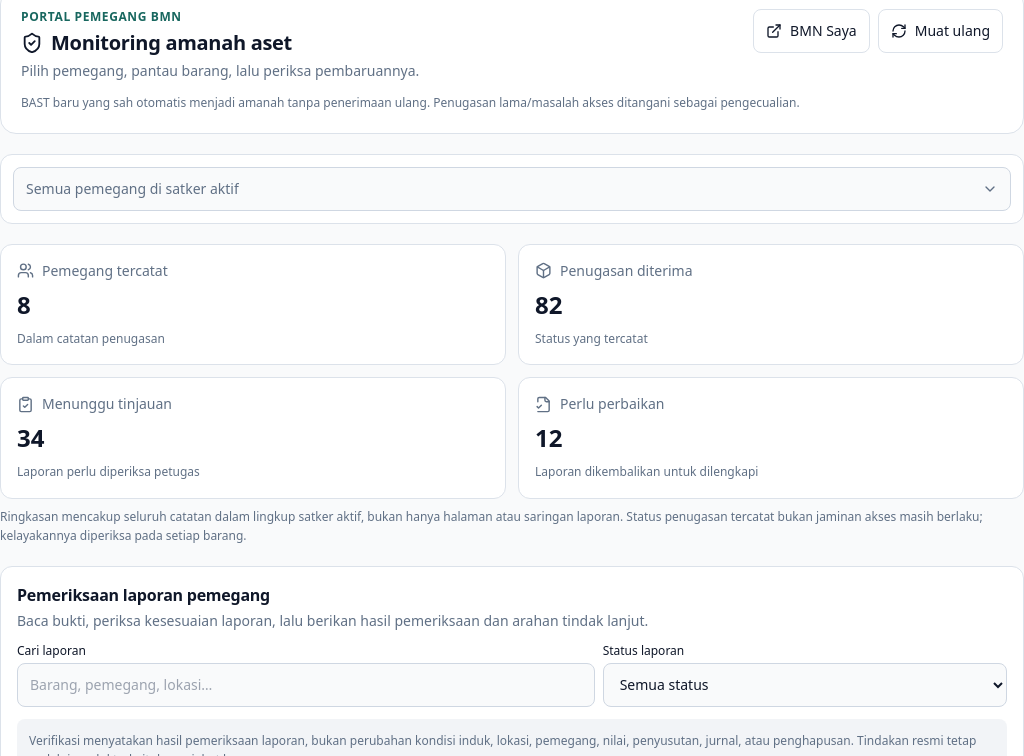
Scenario: kartu amanah membedakan data induk, BAST, laporan dan riwayat dicabut
Click the button with test id "portal-admin-pegawai" at (132, 188), box [13,166,1011,210]
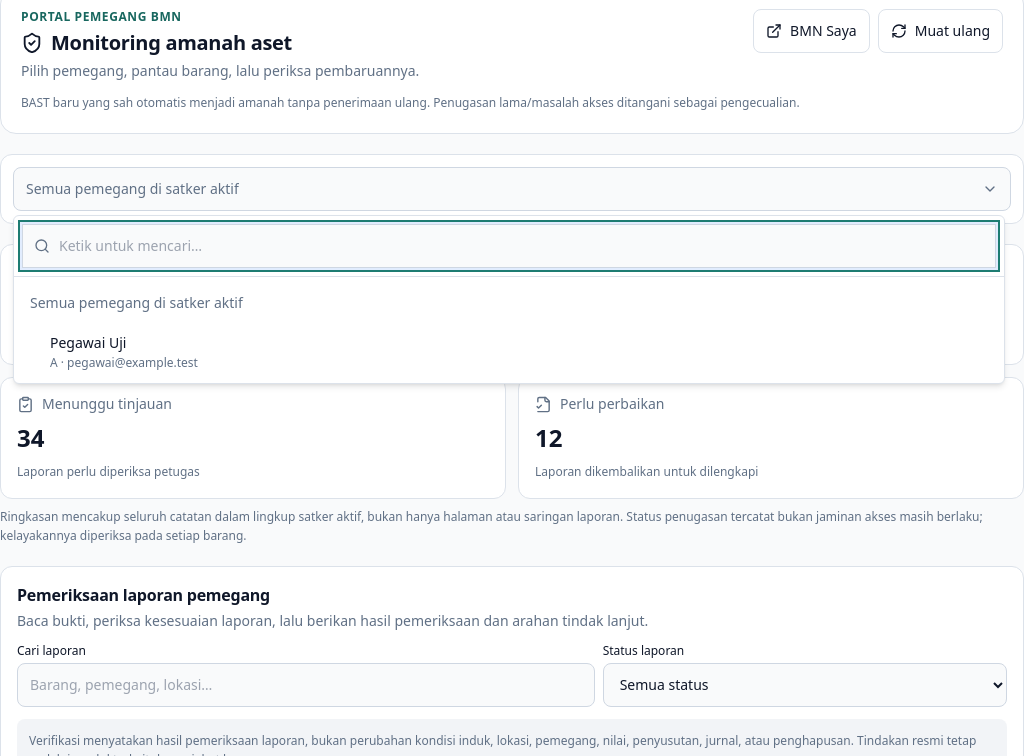
Click the option with test id "portal-admin-pegawai-option-p1" at (88, 342), box [18,325,1000,379]
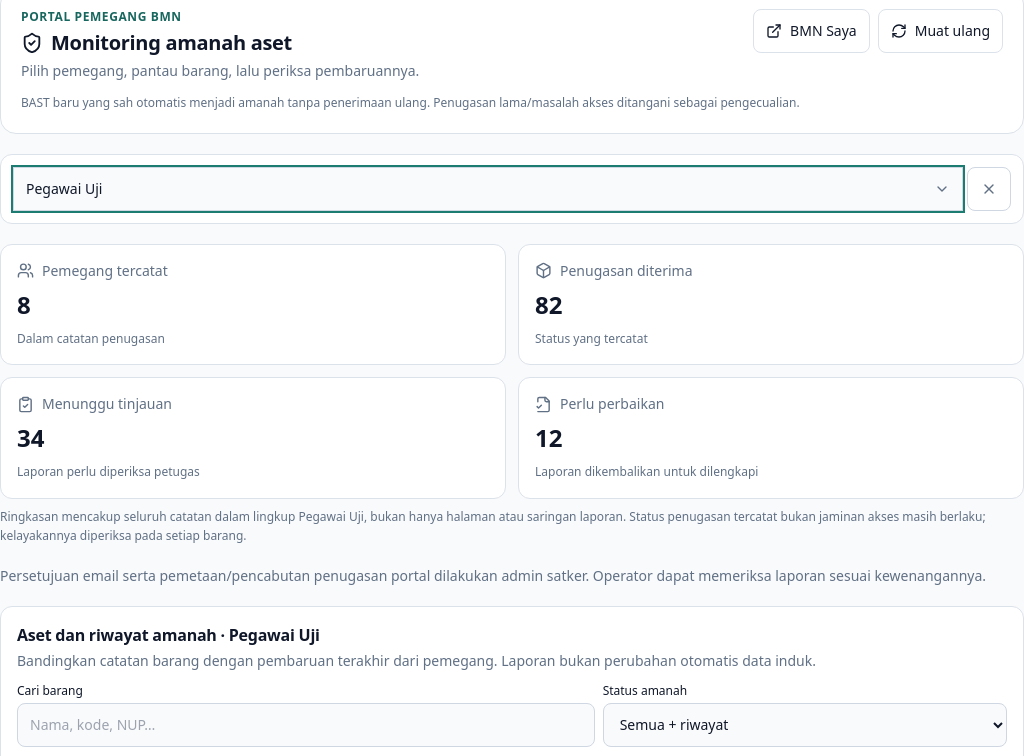
Select "Diterima" in the dropdown with test id "portal-admin-status-amanah" at (805, 724), box [603,702,1007,746]
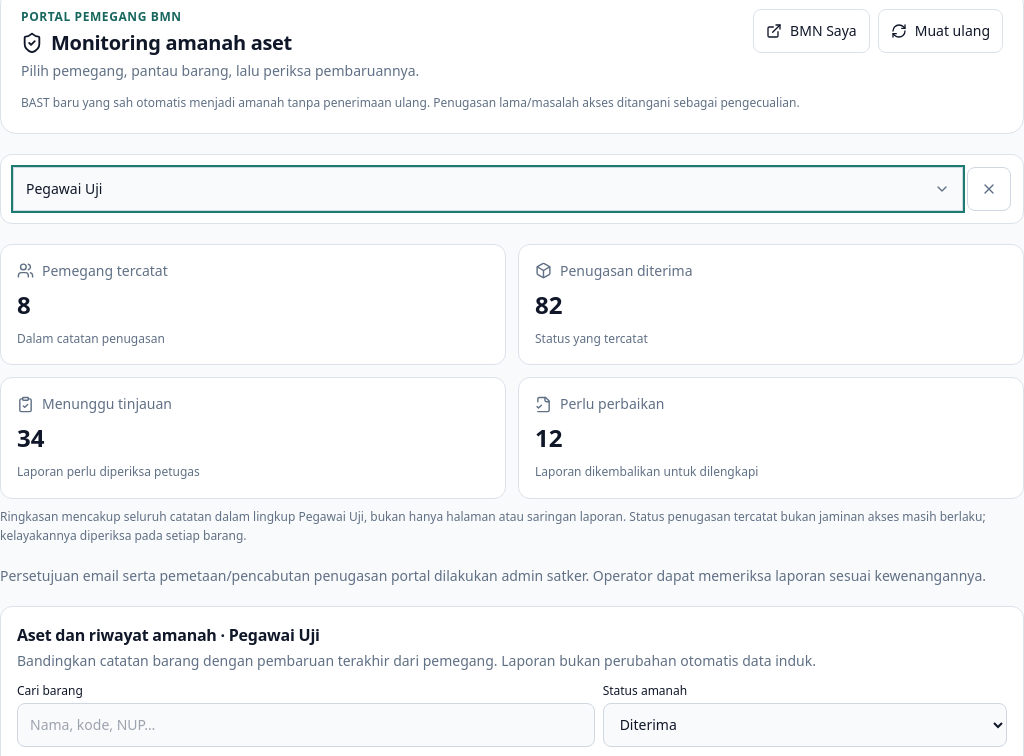
Type "tidak cocok" into the field with test id "portal-admin-cari-amanah" at (306, 724), box [17,702,595,746]
(page scrolled)
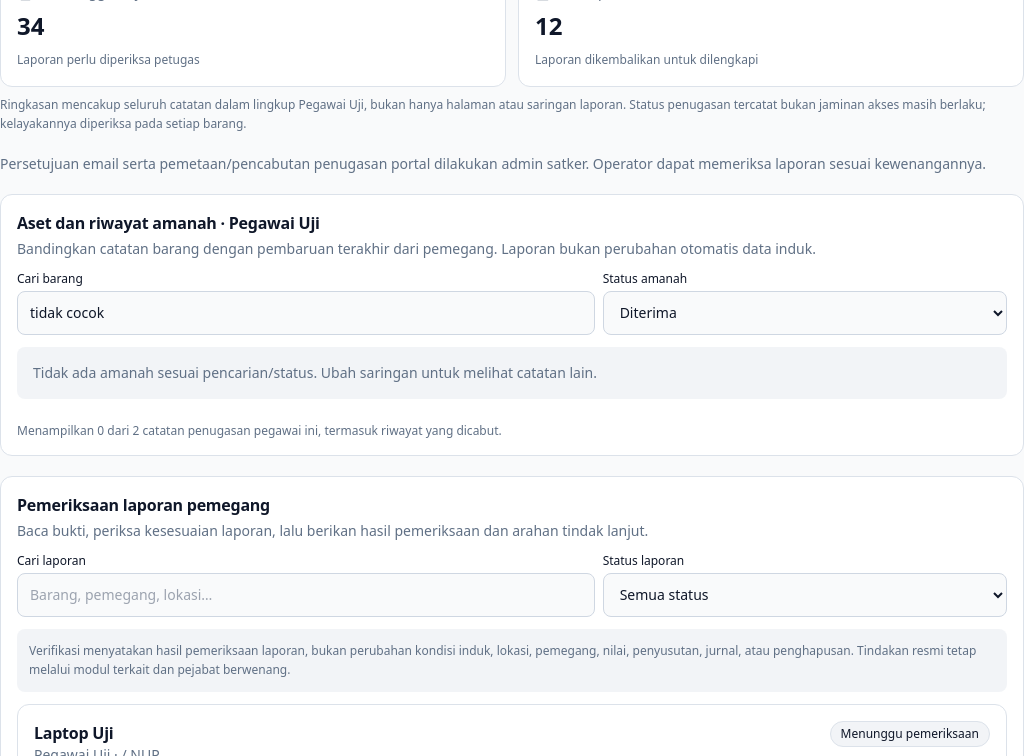
Check: the text "Tidak ada amanah sesuai pencarian" is shown, box [33,362,597,382]
